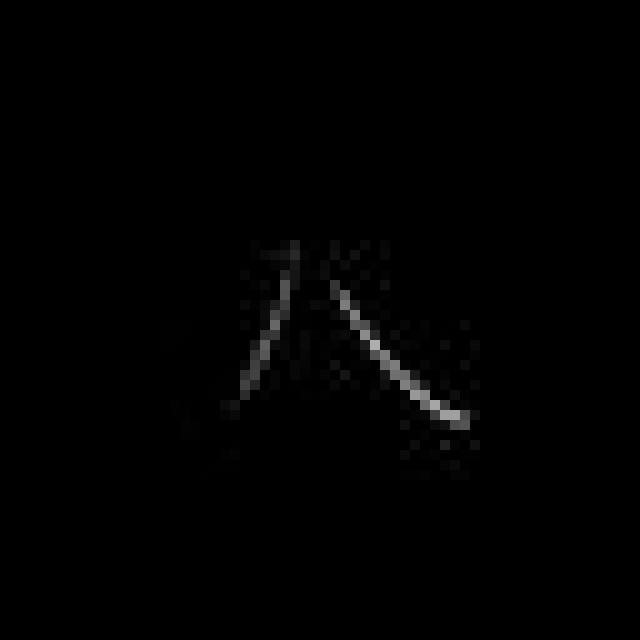8 -eight-: (220, 264, 490, 442)
